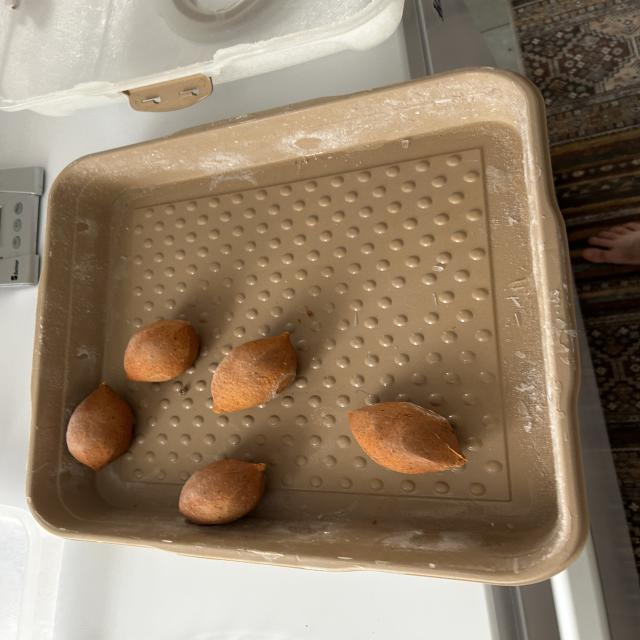kobi: (344, 405, 475, 474), (208, 329, 302, 415), (66, 375, 134, 473), (172, 459, 270, 526), (125, 317, 200, 386)
